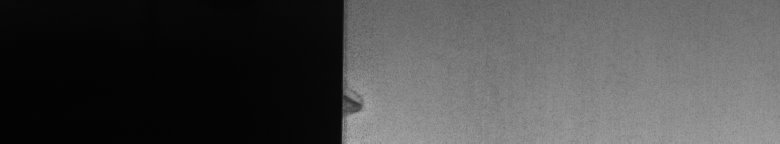hb: (352, 84, 372, 122)
